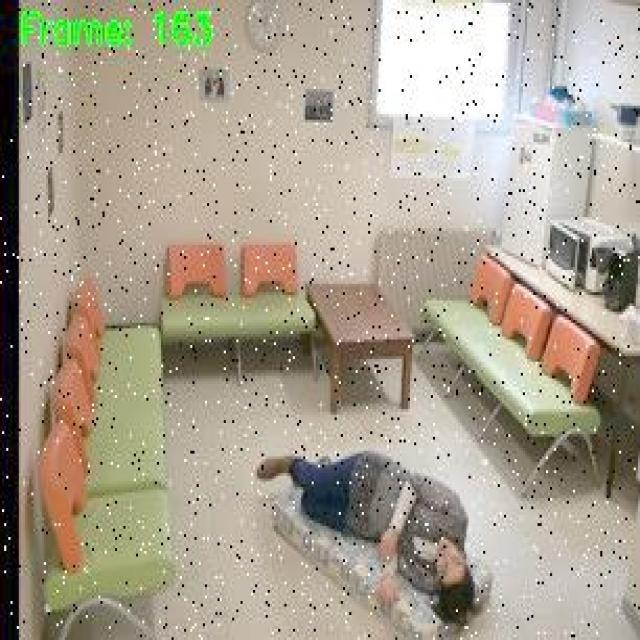fall: (252, 439, 480, 632)
